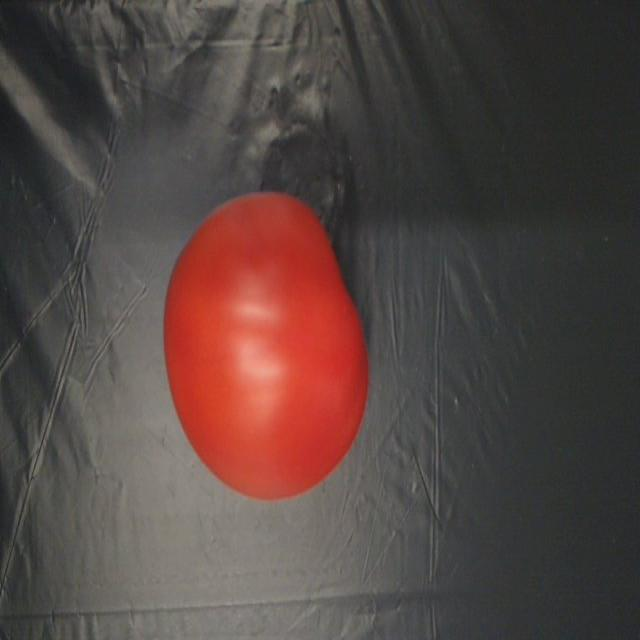kirmizi: (153, 185, 377, 514)
